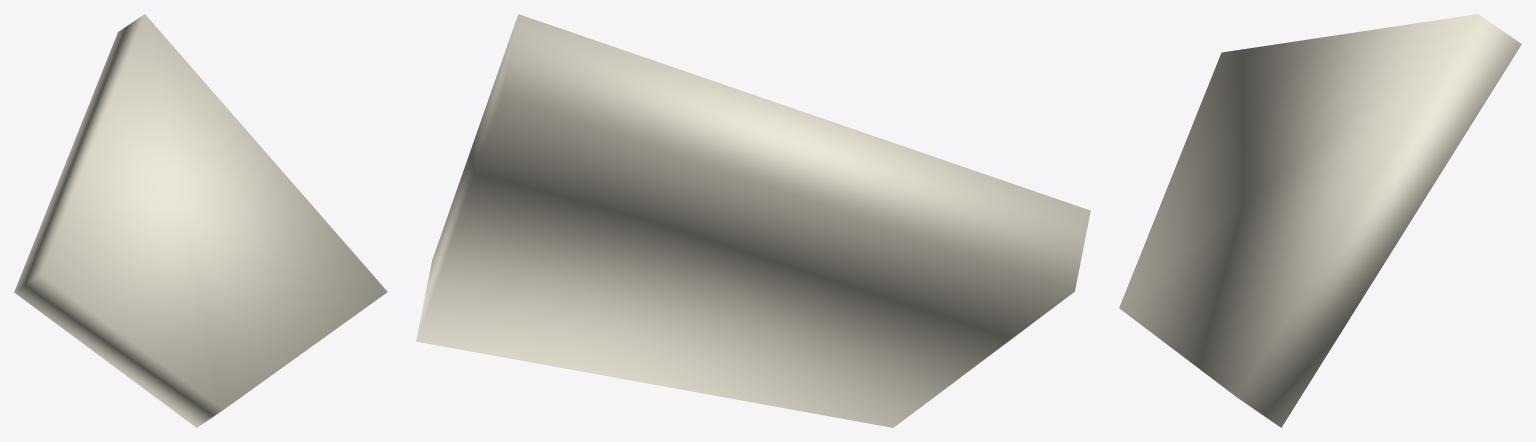
3 renders of one model, left to right at view 1: azimuth 30°, elevation 25°; view 2: azimuth 150°, elevation 25°; view 3: azimuth 270°, elevation 25°, orthographic. The views are drawn at different scales.
Parts seen in each view (by area): view 1: ZA_4226deb51ba083bf; view 2: ZA_4226deb51ba083bf; view 3: ZA_4226deb51ba083bf.
Boxes of the visible parts, x1=… form: ZA_4226deb51ba083bf: x1=14, y1=14, x2=387, y2=427; ZA_4226deb51ba083bf: x1=416, y1=14, x2=1090, y2=427; ZA_4226deb51ba083bf: x1=1119, y1=14, x2=1521, y2=427.
Size of the model in its own units: 0.00426 by 0.00339 by 0.00334.
